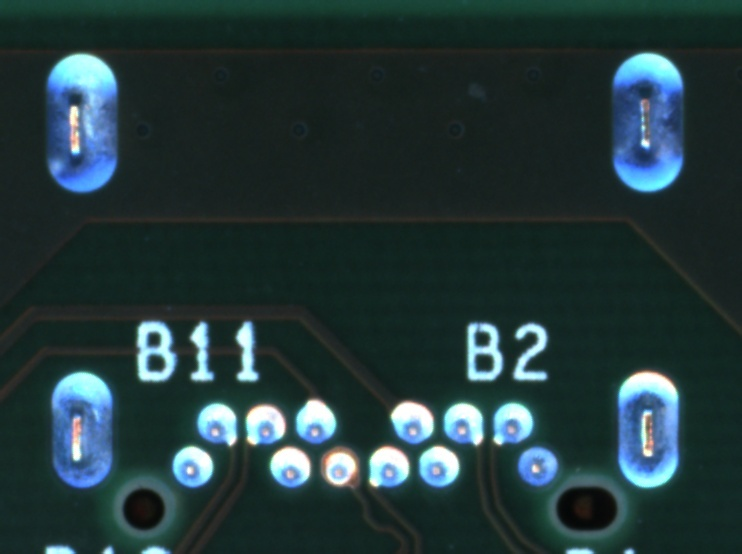SOLDER: (489, 400, 534, 448), (241, 400, 286, 448), (194, 400, 239, 447), (514, 442, 559, 489), (414, 442, 459, 489), (364, 443, 409, 490), (318, 443, 363, 490), (267, 442, 312, 489), (169, 442, 214, 489), (440, 399, 485, 446), (389, 398, 434, 445), (291, 397, 336, 444)
SOLDER2: (598, 351, 694, 506), (598, 44, 694, 199), (34, 46, 130, 201), (32, 348, 128, 503)
